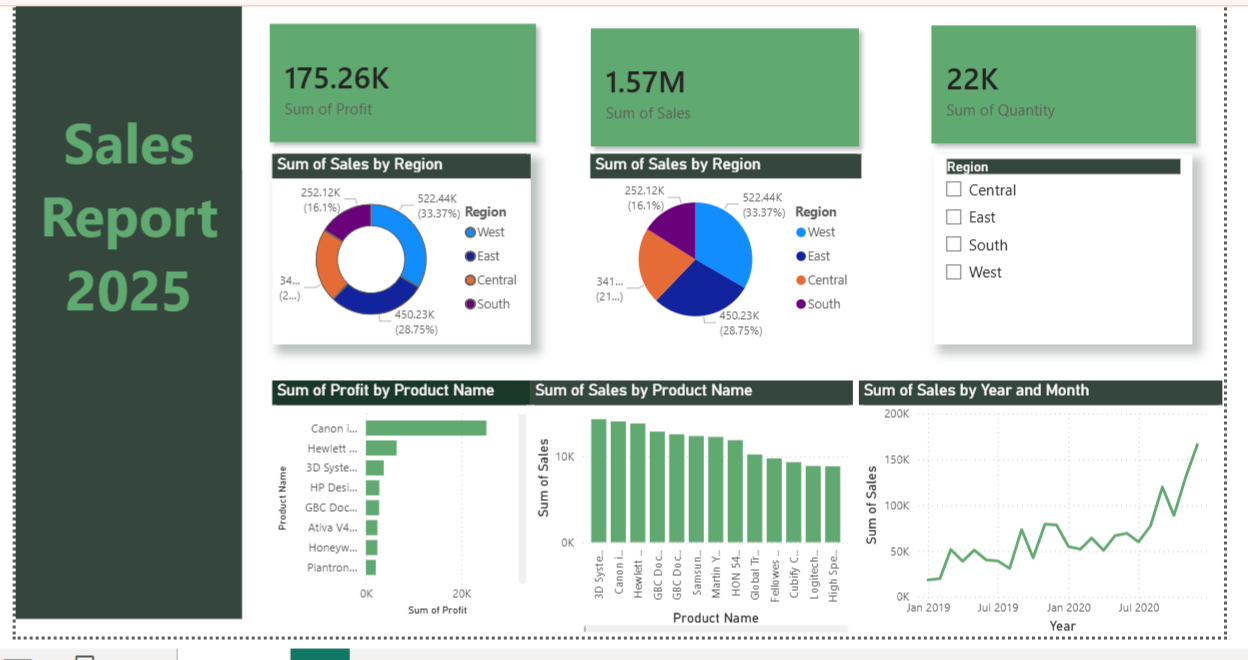

This screenshot's page, from the dashboard's own definition file:
{"tool":"powerbi","page":{"name":"Page 1","canvas":[1280,720],"ordinal":0},"visuals":[{"type":"textbox","box":[0,41.4,240.2,660.1],"z":0},{"type":"cardVisual","fields":{"Data":["Sum(Sheet1.Profit)"]},"box":[240,41.6,340.2,183.3],"z":1000},{"type":"cardVisual","fields":{"Data":["Sum(Sheet1.Sales)"]},"box":[580.2,45.4,342,183.3],"z":2000},{"type":"cardVisual","fields":{"Data":["Sum(Sheet1.Quantity)"]},"box":[941.1,43.5,338.3,183.3],"z":3000},{"type":"donutChart","fields":{"Category":["Sheet1.Region"],"Y":["Sum(Sheet1.Sales)"]},"box":[272.1,207.9,274,202.2],"z":4000},{"type":"slicer","fields":{"Values":["Sheet1.Region"]},"box":[973.2,207.9,274,202.2],"z":5000},{"type":"lineChart","fields":{"Y":["Sum(Sheet1.Sales)"],"Category":["Sheet1.Order Date.Variation.Date Hierarchy.Year","Sheet1.Order Date.Variation.Date Hierarchy.Month"]},"box":[893.9,447.9,385.5,272.1],"z":6000},{"type":"columnChart","fields":{"Category":["Sheet1.Product Name"],"Y":["Sum(Sheet1.Sales)"]},"box":[546.1,447.9,342,272.1],"z":6001},{"type":"pieChart","fields":{"Category":["Sheet1.Region"],"Y":["Sum(Sheet1.Sales)"]},"box":[608.5,207.9,287.2,202.2],"z":6002},{"type":"clusteredBarChart","fields":{"Category":["Sheet1.Product Name"],"Y":["Sum(Sheet1.Profit)"]},"box":[272.1,447.9,274,253.2],"z":6003}]}

Visuals, with their boxes in screenshot pixels (x1, y1, x2, y2):
textbox: [left=13, top=0, right=238, bottom=615]
cardVisual - Sum(Sheet1.Profit): [left=238, top=0, right=557, bottom=168]
cardVisual - Sum(Sheet1.Sales): [left=557, top=0, right=877, bottom=172]
cardVisual - Sum(Sheet1.Quantity): [left=895, top=0, right=1212, bottom=170]
donutChart - Sheet1.Region x Sum(Sheet1.Sales): [left=268, top=153, right=525, bottom=342]
slicer - Sheet1.Region: [left=925, top=153, right=1181, bottom=342]
lineChart - Sum(Sheet1.Sales) x Sheet1.Order Date.Variation.Date Hierarchy.Year: [left=850, top=377, right=1212, bottom=632]
columnChart - Sheet1.Product Name x Sum(Sheet1.Sales): [left=525, top=377, right=845, bottom=632]
pieChart - Sheet1.Region x Sum(Sheet1.Sales): [left=583, top=153, right=852, bottom=342]
clusteredBarChart - Sheet1.Product Name x Sum(Sheet1.Profit): [left=268, top=377, right=525, bottom=615]
